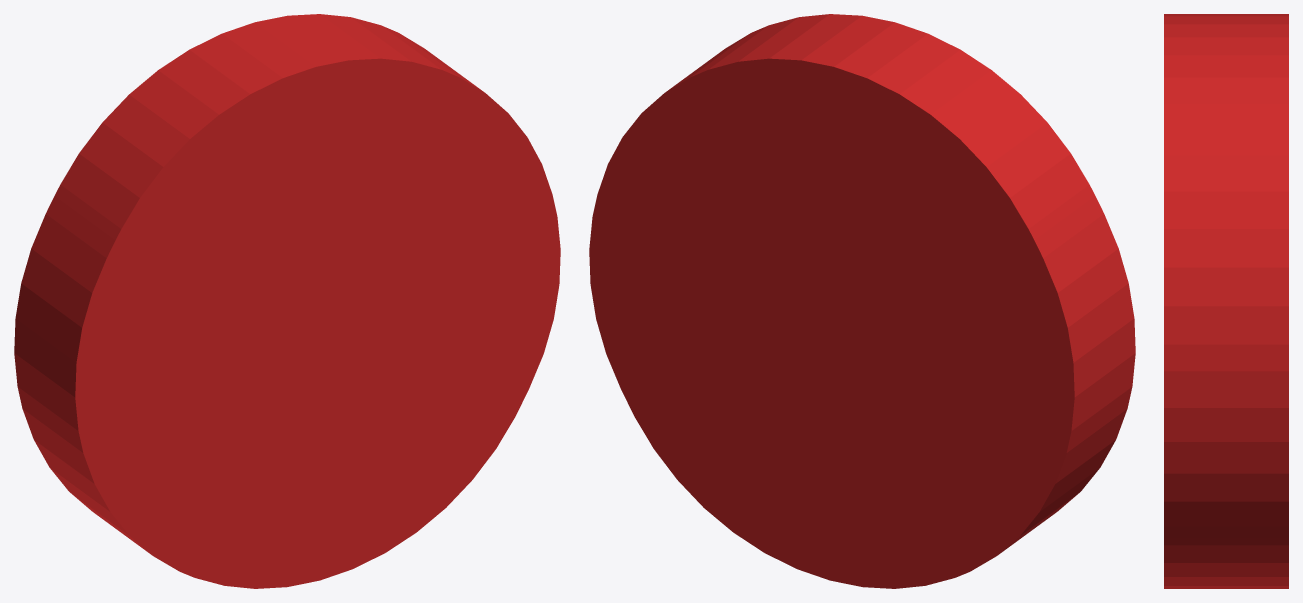
The model's file is converted_link2_13_d12626ff.obj.
The picture shows the model from 3 angles, left to right: view 1: azimuth 30°, elevation 25°; view 2: azimuth 150°, elevation 25°; view 3: azimuth 270°, elevation 25°; orthographic projection. The views are drawn at different scales.
Bounding box in the file's own units: 0.000459 × 0.000465 × 0.0001.
